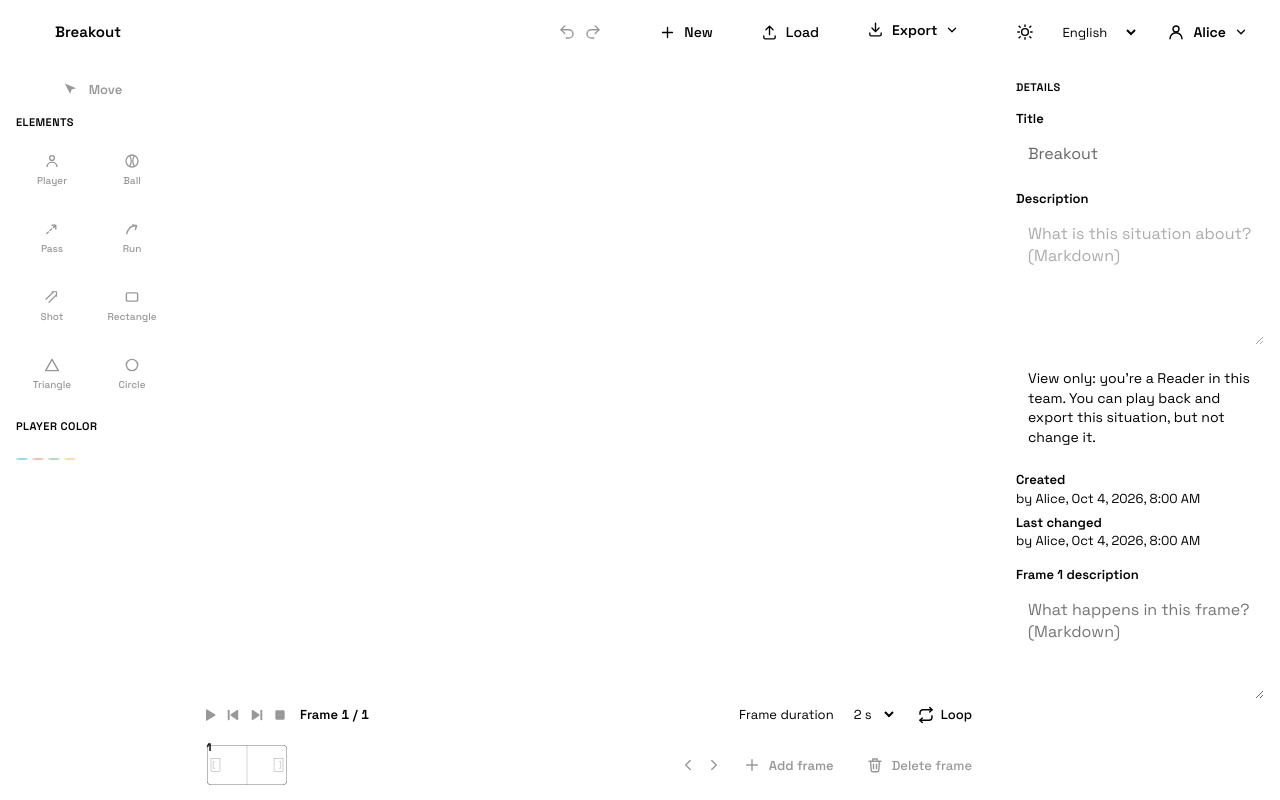
Test: editor page: saving on the server › a team situation › opened by a Reader › leads the badge back to the team's folder, and New starts in the personal area
Click the button "New": (686, 32) [643,23,729,41]
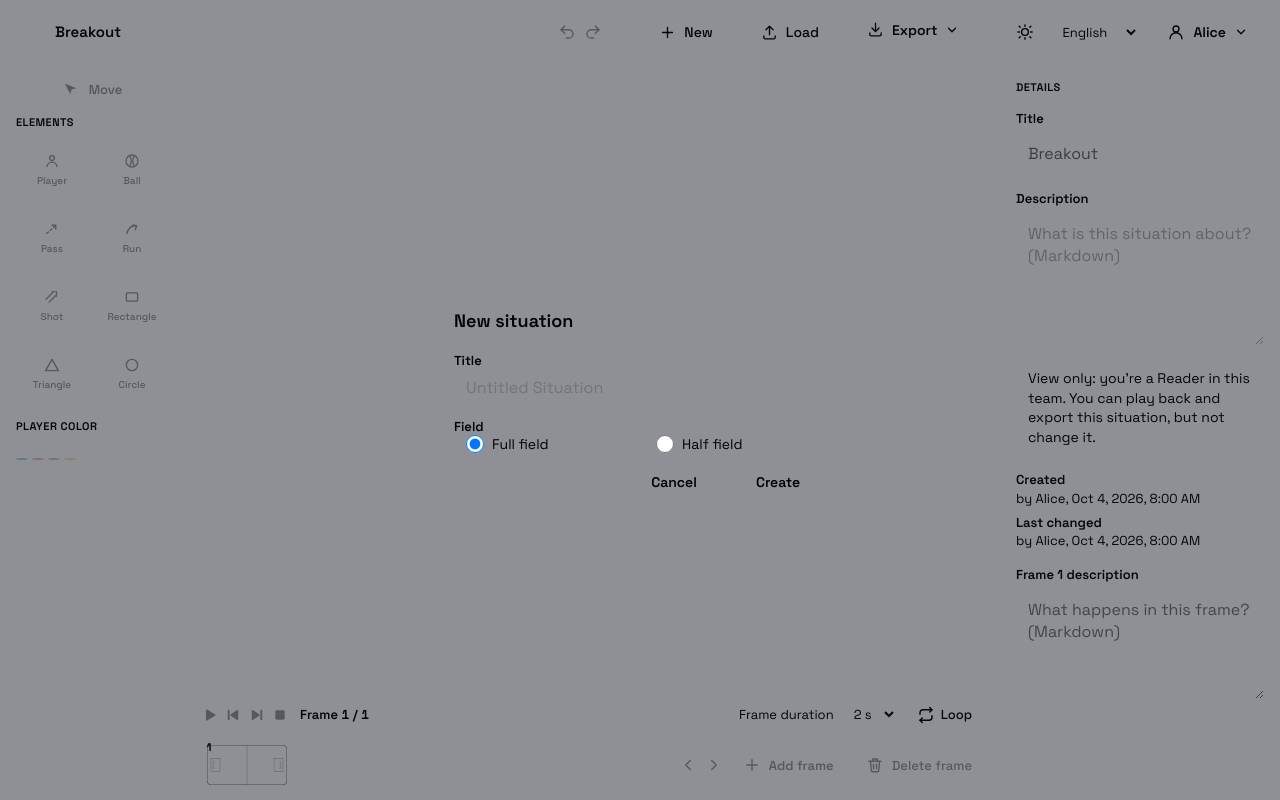
Click the button "Create": (778, 482) [730,473,826,491]
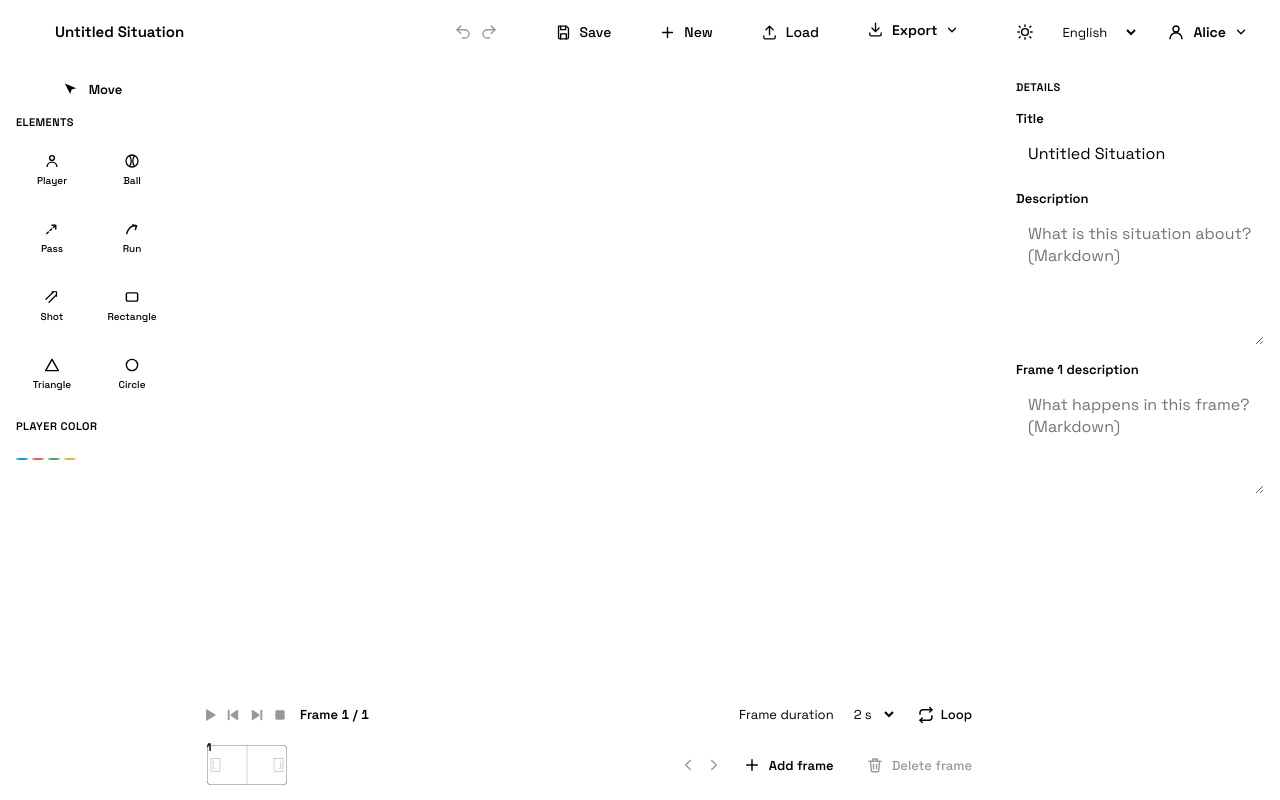
Expected: the button "Save" is enabled, [538,23,627,41]
